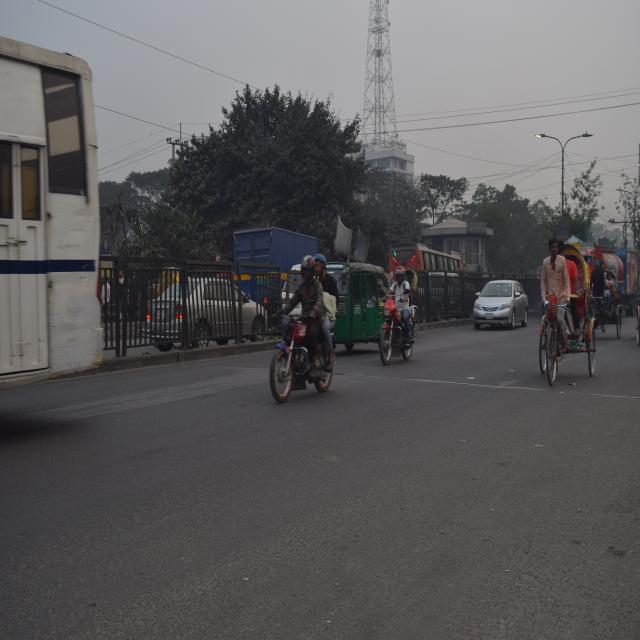bus: (0, 29, 124, 405), (385, 240, 468, 316)
car: (471, 275, 533, 336)
microbus: (137, 271, 271, 364)
motorbike: (258, 306, 346, 410), (366, 292, 424, 372)
pickup-van: (227, 216, 328, 320)
truck: (568, 221, 632, 330)
